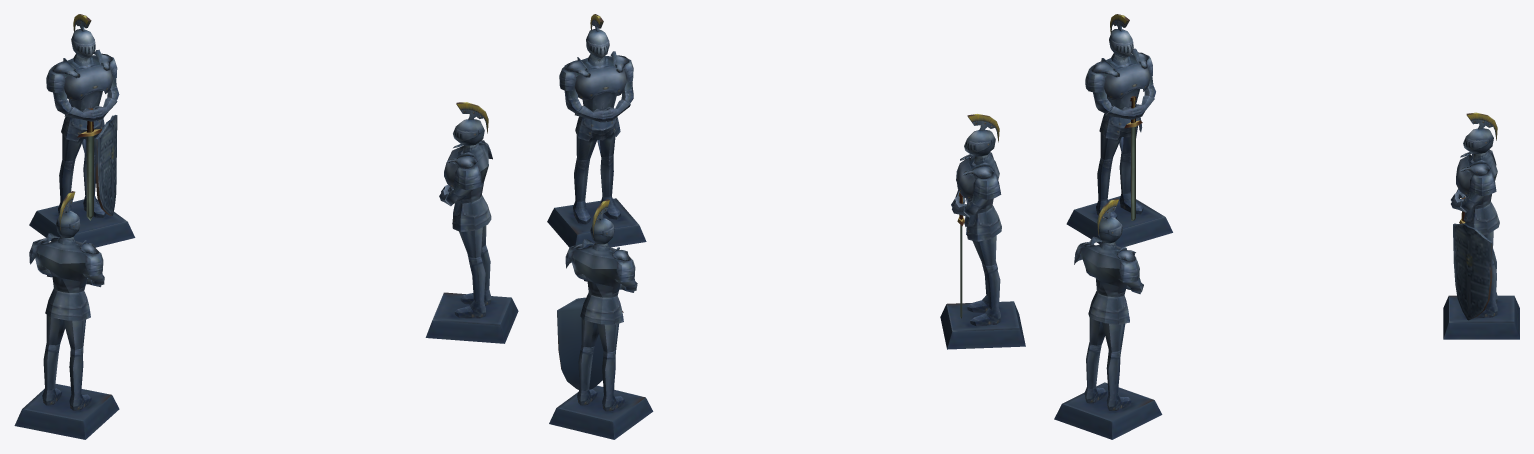
Rendered from wujian58.fbx.
3 renders of one model, left to right at view 1: azimuth 30°, elevation 25°; view 2: azimuth 150°, elevation 25°; view 3: azimuth 270°, elevation 25°, orthographic. The views are drawn at different scales.
Parts seen in each view (by area): view 1: wujian58; view 2: wujian58; view 3: wujian58.
Boxes of the visible parts, box(x1,y1,x2,y2) form: wujian58: box(14, 14, 518, 439); wujian58: box(547, 14, 1025, 439); wujian58: box(1054, 14, 1519, 439).
Size of the model in its own units: 1561 by 666 by 1312.
1 material, 1 textured.
